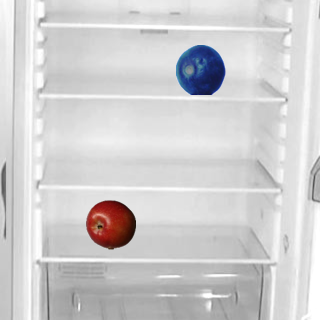Apple Braeburn: (85, 199, 135, 249)
Huckleberry: (175, 44, 225, 94)
